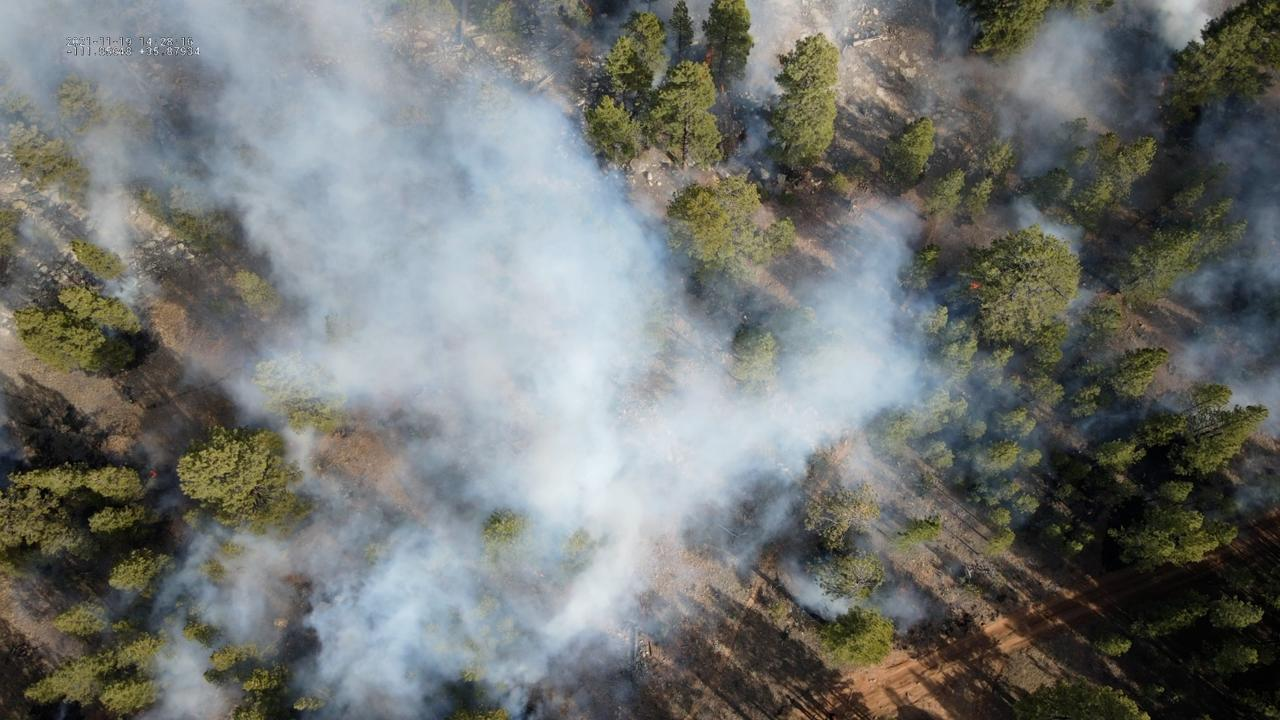fire: (705, 46, 715, 65), (147, 469, 157, 479), (970, 281, 980, 290)
smoke: (0, 0, 1280, 720)
